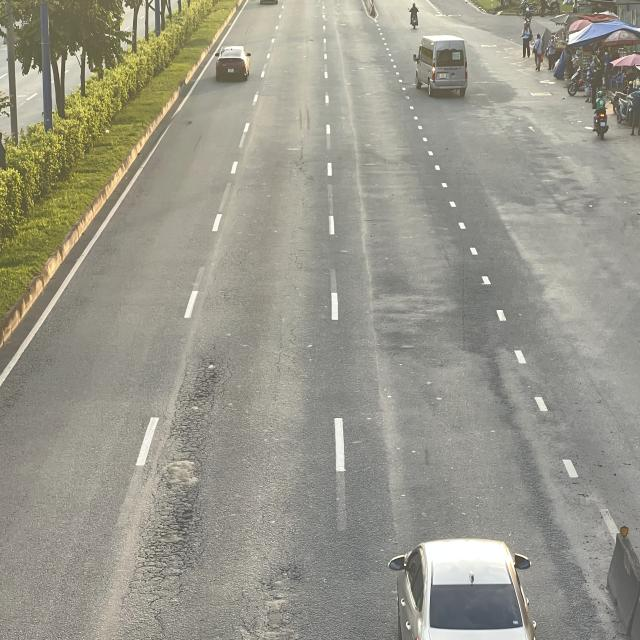car: (395, 539, 538, 640), (214, 47, 251, 83)
van: (413, 37, 468, 99)
